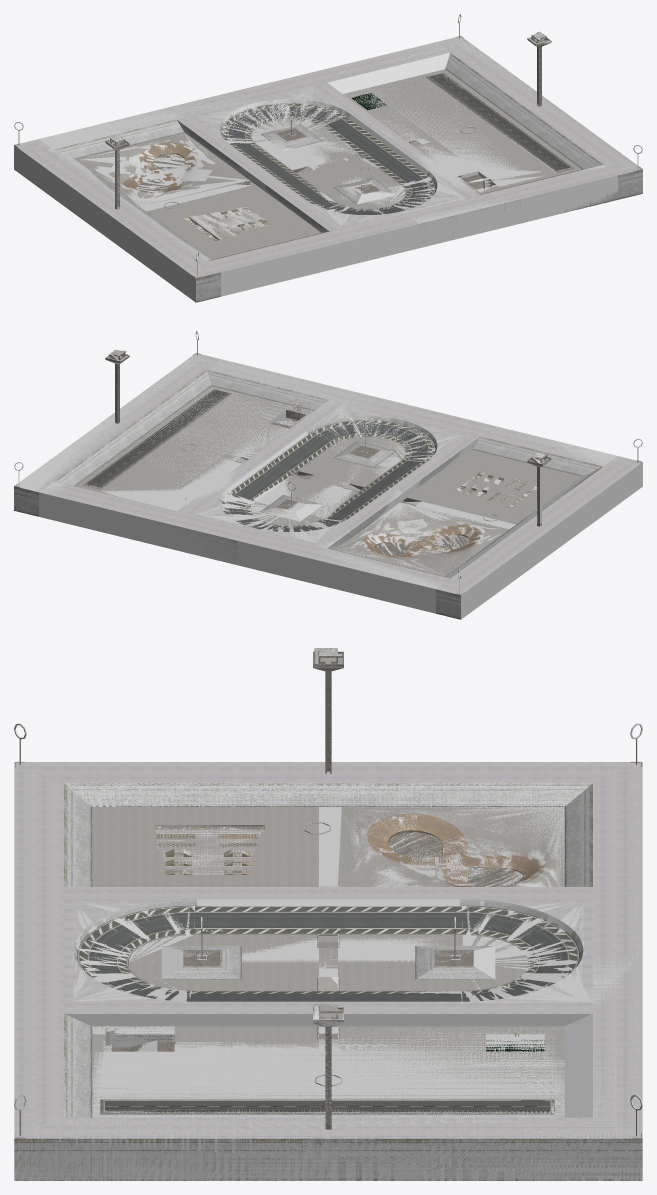
File: world.glb
The picture shows the model from 3 angles, top to bottom: view 1: azimuth 30°, elevation 25°; view 2: azimuth 150°, elevation 25°; view 3: azimuth 270°, elevation 25°; orthographic projection. The views are drawn at different scales.
Parts seen in each view (by area): view 1: Plane, Cube.006, Cube.011, Cube.065, BezierCircle, Cube.056, Cube.054, Cube.009, Cube.082, Cube.068, Cube.072, Cube.058 (+16 smaller); view 2: Plane, BezierCircle, Cube.054, Cube.055, Cube.065, Cube.056, Cube, Cube.009, Cube.006, Cube.082, Cube.064, Cube.011 (+15 smaller); view 3: Plane, Cube, Cube.056, BezierCircle, Cube.066, Cube.009, Cube.077, Cube.064, Cube.082, Cube.068, Cube.007, Cube.581 (+16 smaller).
Part boxes in pixels (x1=…): Plane: x1=14, y1=36, x2=642, y2=302; Cube.006: x1=411, y1=165, x2=617, y2=247; Cube.011: x1=221, y1=214, x2=419, y2=296; Cube.065: x1=14, y1=139, x2=195, y2=302; BezierCircle: x1=75, y1=132, x2=248, y2=205; Cube.056: x1=366, y1=71, x2=543, y2=186; Cube.054: x1=39, y1=93, x2=250, y2=149; Cube.009: x1=425, y1=73, x2=574, y2=172; Cube.082: x1=251, y1=120, x2=358, y2=170; Cube.068: x1=327, y1=53, x2=449, y2=93; Cube.072: x1=189, y1=207, x2=265, y2=239; Cube.058: x1=418, y1=143, x2=478, y2=178; Plane: x1=14, y1=354, x2=642, y2=619; BezierCircle: x1=335, y1=504, x2=509, y2=576; Cube.054: x1=237, y1=541, x2=441, y2=613; Cube.055: x1=39, y1=482, x2=237, y2=564; Cube.065: x1=437, y1=456, x2=642, y2=619; Cube.056: x1=102, y1=387, x2=289, y2=505; Cube: x1=16, y1=353, x2=217, y2=491; Cube.009: x1=83, y1=389, x2=231, y2=489; Cube.006: x1=207, y1=359, x2=417, y2=410; Cube.082: x1=251, y1=480, x2=352, y2=525; Cube.064: x1=155, y1=458, x2=242, y2=511; Cube.011: x1=430, y1=415, x2=617, y2=466; Plane: x1=14, y1=762, x2=642, y2=1180; Cube: x1=14, y1=1117, x2=642, y2=1180; Cube.056: x1=92, y1=1051, x2=564, y2=1117; BezierCircle: x1=342, y1=807, x2=564, y2=886; Cube.066: x1=65, y1=783, x2=592, y2=806; Cube.009: x1=100, y1=1099, x2=554, y2=1114; Cube.077: x1=65, y1=1001, x2=592, y2=1026; Cube.064: x1=338, y1=1026, x2=563, y2=1051; Cube.082: x1=338, y1=935, x2=528, y2=989; Cube.068: x1=564, y1=1014, x2=592, y2=1117; Cube.007: x1=415, y1=946, x2=494, y2=979; Cube.581: x1=162, y1=946, x2=241, y2=979.
Size of what is drawn, in the model's own units: 399 by 80.33 by 281.
14 materials, 13 textured.
